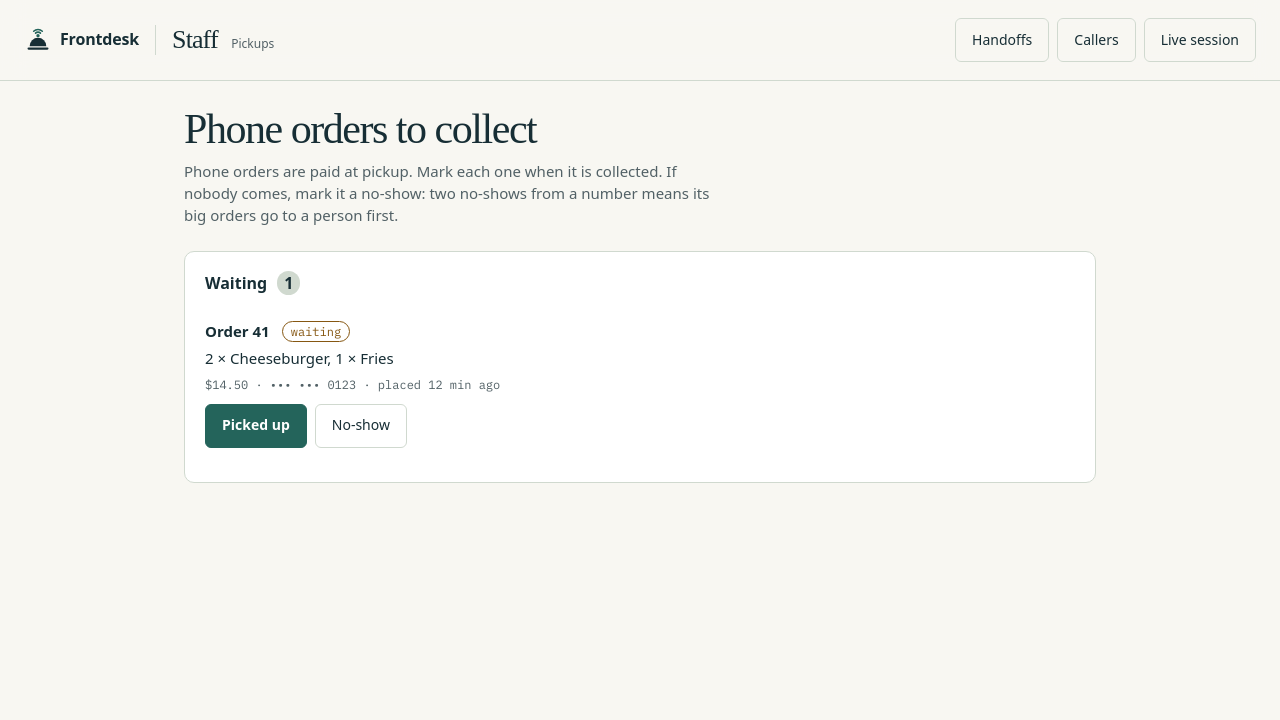
Test: the pickups page › marks a no-show, signed with the name typed on the staff screen
This screenshot has width=1280, height=720.
Click the button named "No-show, order 41" at {"x": 361, "y": 426}, box [315,404,407,448]
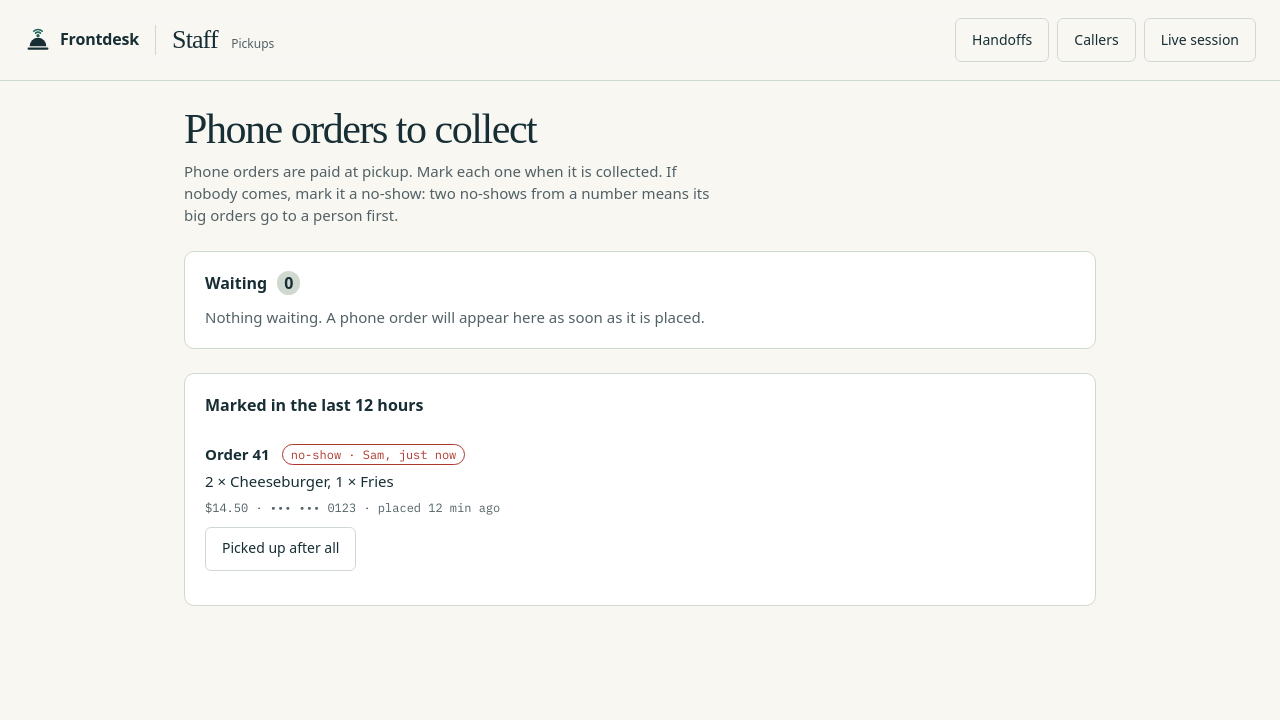
Expected: the text "no-show · Sam, just now" is shown, [282,444,465,465]
Expected: the text "Nothing waiting. A phone order will appear here as soon as it is placed." is shown, [205,307,705,327]
